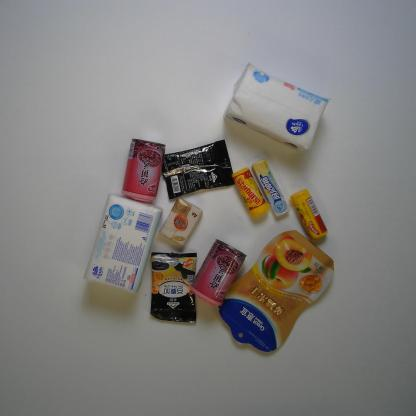Candy: (252, 152, 290, 220), (292, 184, 330, 240), (233, 163, 268, 217)
Canned Food: (196, 242, 243, 302), (125, 134, 163, 205)
Dried Fruit: (219, 223, 343, 361)
Instant Drink: (146, 251, 198, 324), (164, 144, 231, 196)
Tissue: (225, 56, 331, 154), (81, 195, 157, 292), (160, 191, 200, 243)
